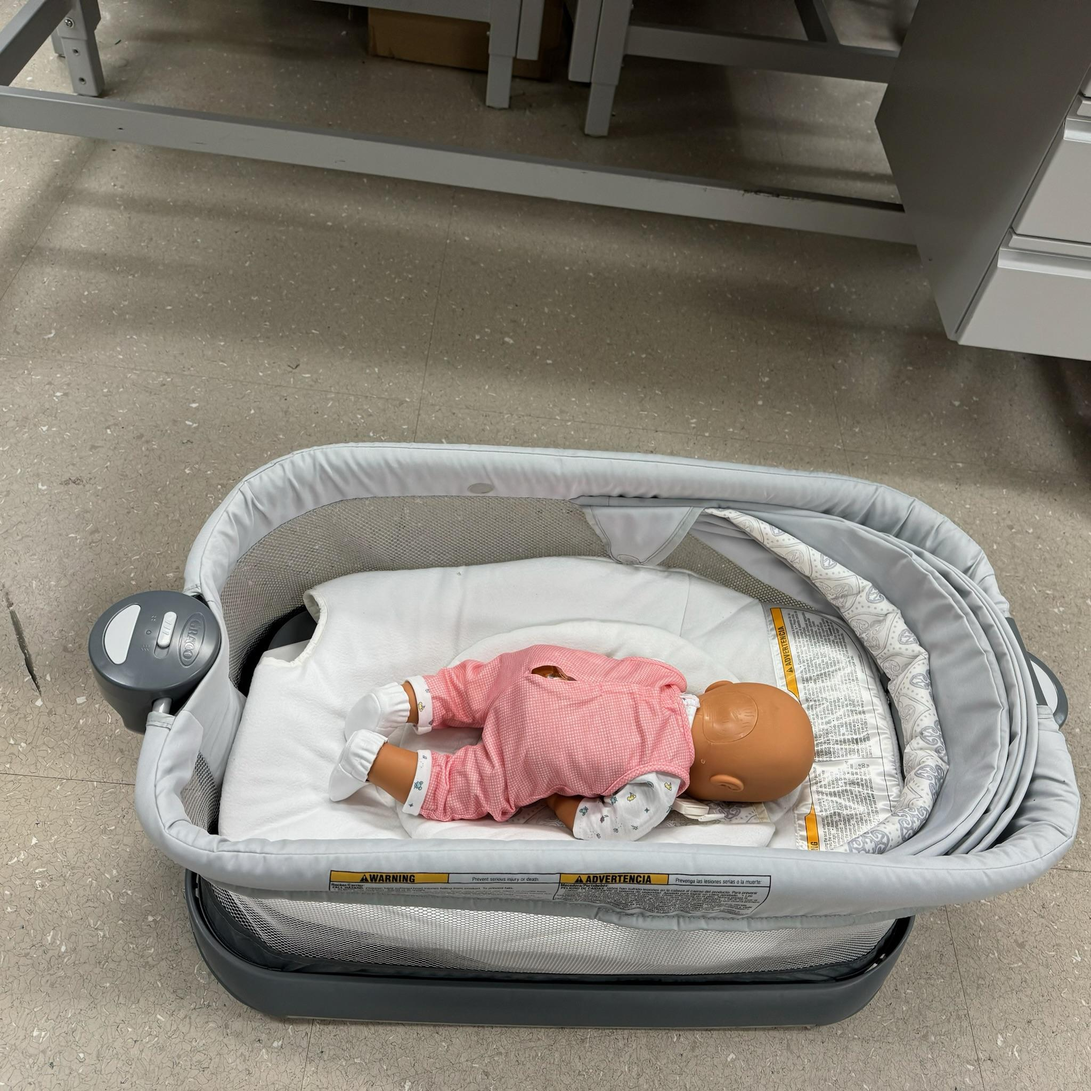baby: (325, 641, 824, 846)
